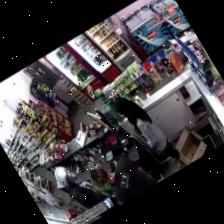person: (113, 98, 182, 167), (89, 158, 156, 203), (54, 167, 105, 208)
